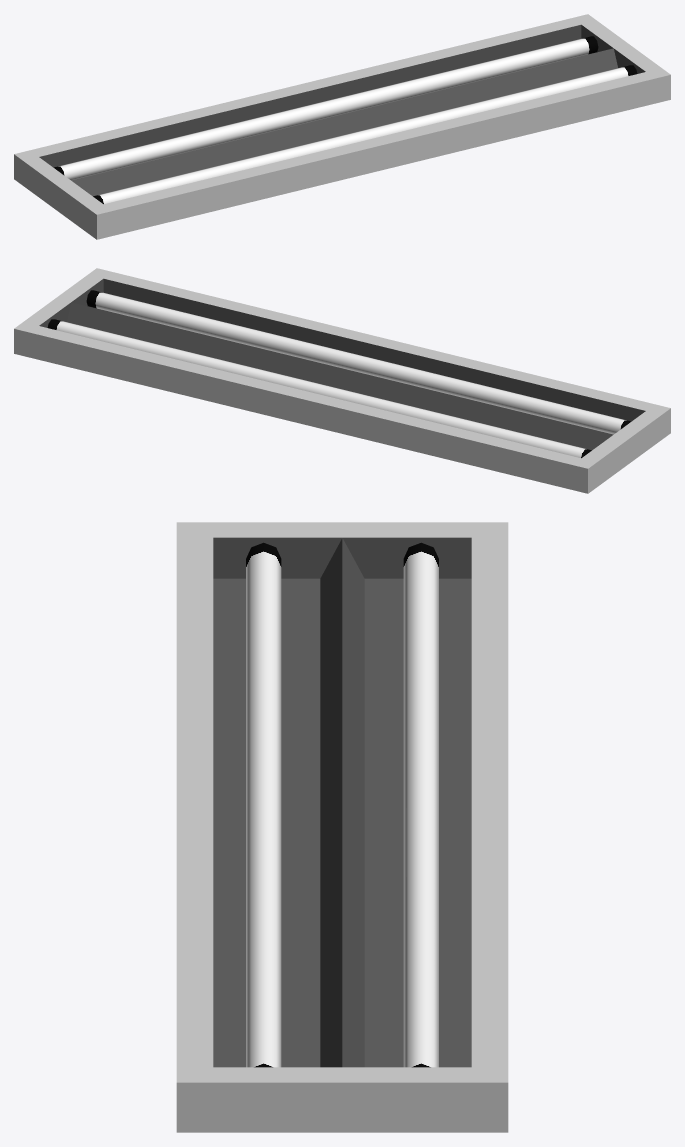
The model's file is ceil_fluorescent_lamp.fbx.
3 renders of one model, top to bottom at view 1: azimuth 30°, elevation 25°; view 2: azimuth 150°, elevation 25°; view 3: azimuth 270°, elevation 25°, orthographic. The views are drawn at different scales.
Visible parts, largest first — view 1: Plane; view 2: Plane; view 3: Plane.
Boxes of the visible parts, x1,y1,x2,y2 form: Plane: (14, 14, 670, 239); Plane: (14, 268, 670, 493); Plane: (176, 522, 508, 1132).
Bounding box in the file's own units: 1.2 × 0.05 × 0.3.
